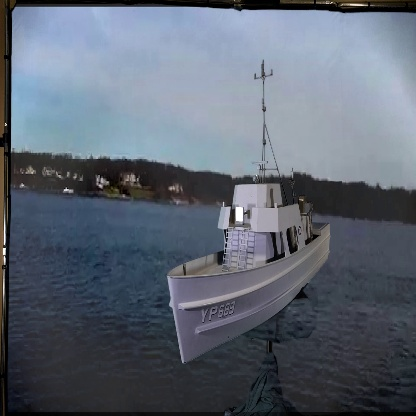YP689: (168, 58, 332, 365)
